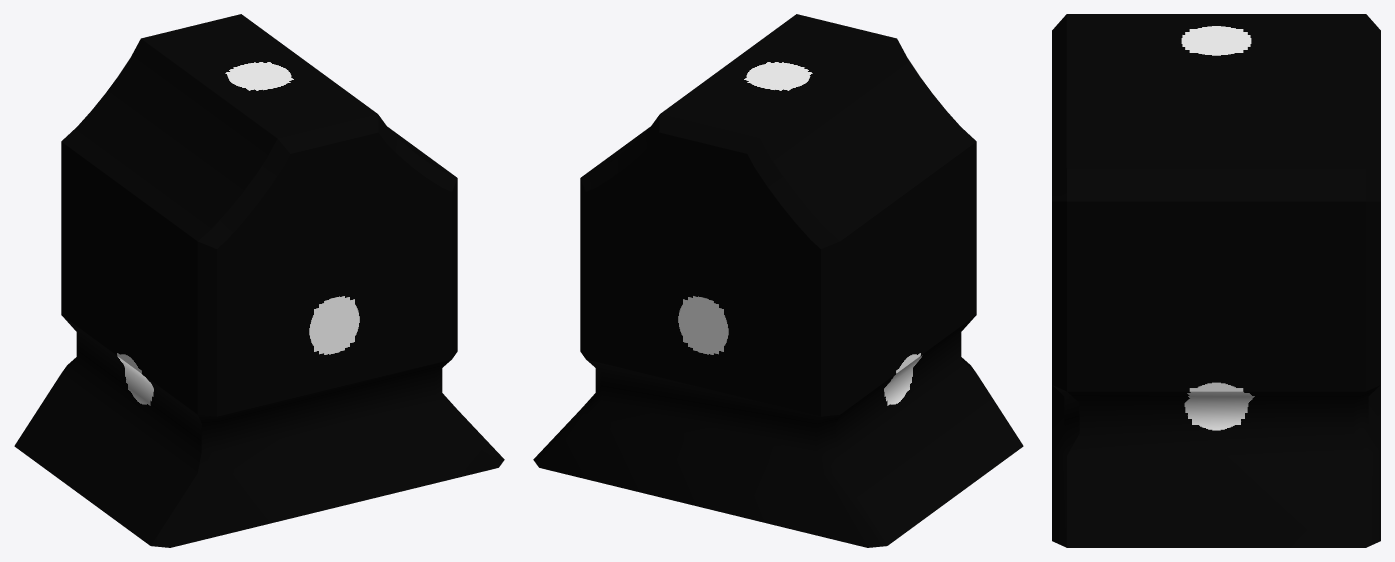
File: PowerPlantPlug.fbx
3 views of the same model, side by side, from view 1: azimuth 30°, elevation 25°; view 2: azimuth 150°, elevation 25°; view 3: azimuth 270°, elevation 25° (orthographic). The views are drawn at different scales.
Visible parts, largest first — view 1: PowerPlantPlug; view 2: PowerPlantPlug; view 3: PowerPlantPlug.
Boxes of the visible parts, x1,y1,x2,y2 form: PowerPlantPlug: [14, 14, 504, 547]; PowerPlantPlug: [533, 14, 1023, 547]; PowerPlantPlug: [1052, 14, 1380, 547].
Bounding box in the file's own units: 2.72 × 2.77 × 2.
